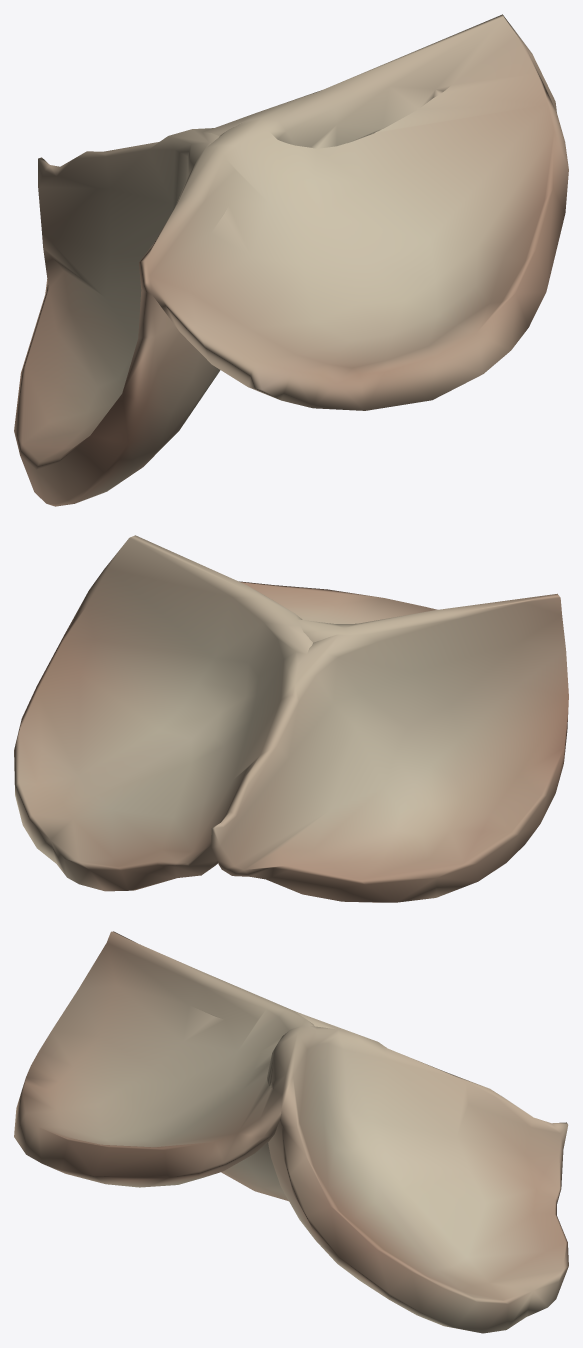
Rendered from PassagemPulmonar.fbx.
3 views of the same model, one above another, from view 1: azimuth 30°, elevation 25°; view 2: azimuth 150°, elevation 25°; view 3: azimuth 270°, elevation 25° (orthographic). The views are drawn at different scales.
Visible parts, largest first — view 1: pulmonary_valve; view 2: pulmonary_valve; view 3: pulmonary_valve.
Boxes of the visible parts, bbox=[...] form: pulmonary_valve: bbox=[14, 14, 568, 506]; pulmonary_valve: bbox=[14, 535, 568, 902]; pulmonary_valve: bbox=[14, 931, 568, 1333].
Size of the model in its own units: 0.2881 by 0.1721 by 0.2989.
